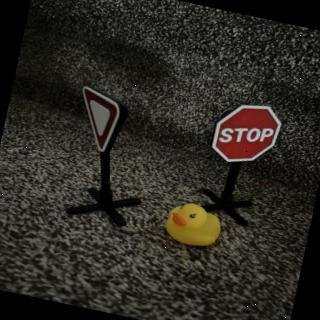duck_regular: (162, 200, 226, 253)
sign_stop: (209, 98, 286, 174)
sign_yield: (71, 88, 132, 158)
